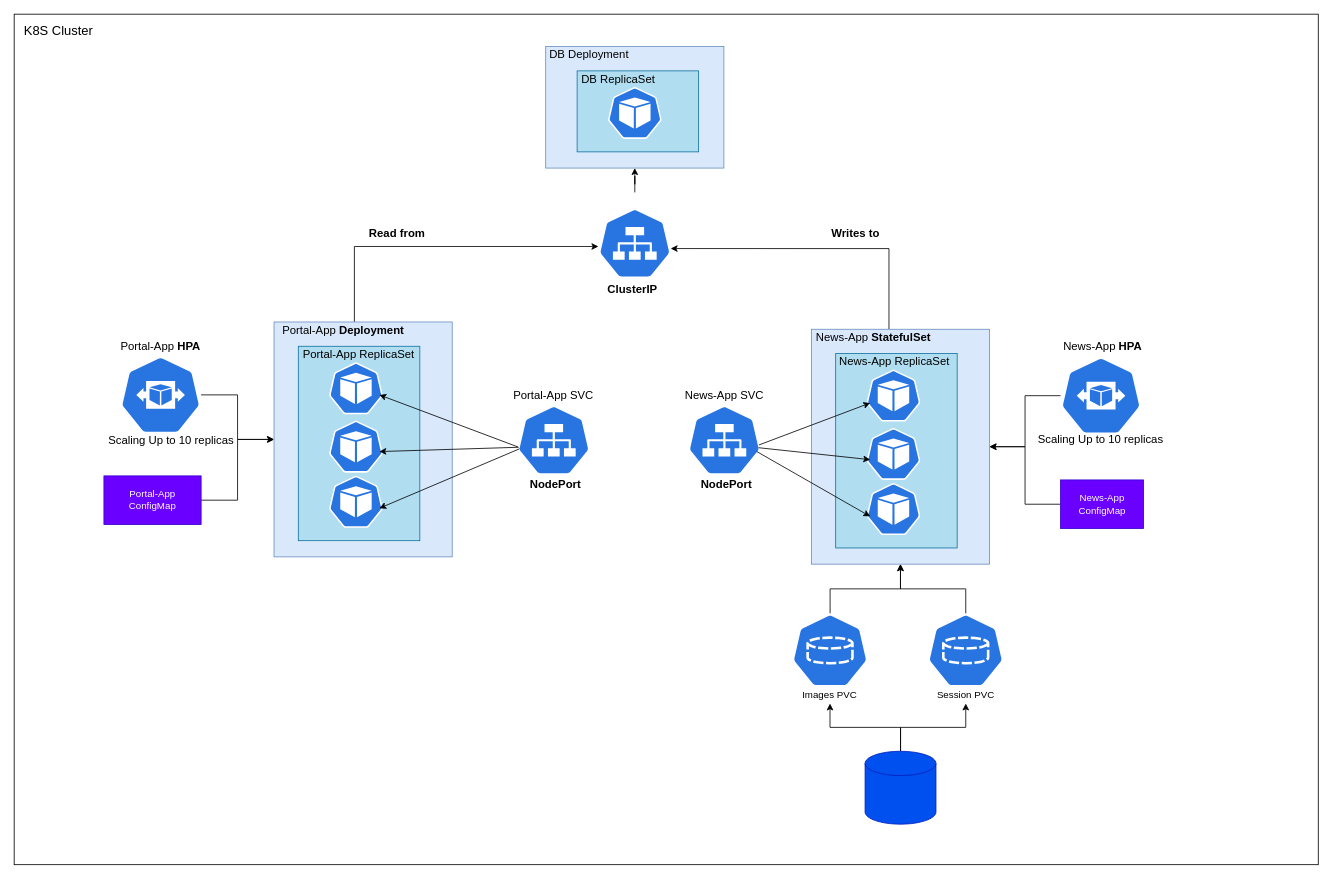
Image size: 1332x879. Some labels were removed from this diagram. The shapes that lost their labels are listed below. From the top down, each one's centre as x and y in pixels, then its label:
At [634,243]: "DB SVC".
At [900,787]: "StorageClass".
